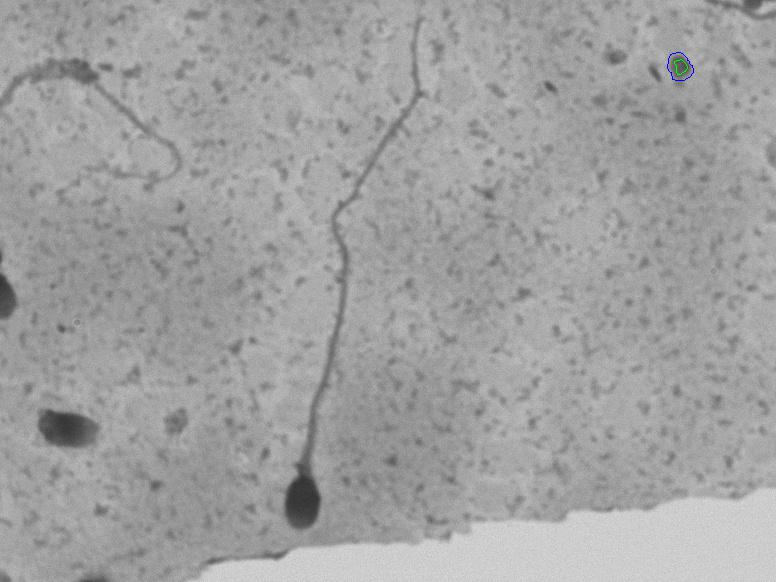Normal: (229, 7, 446, 541)
